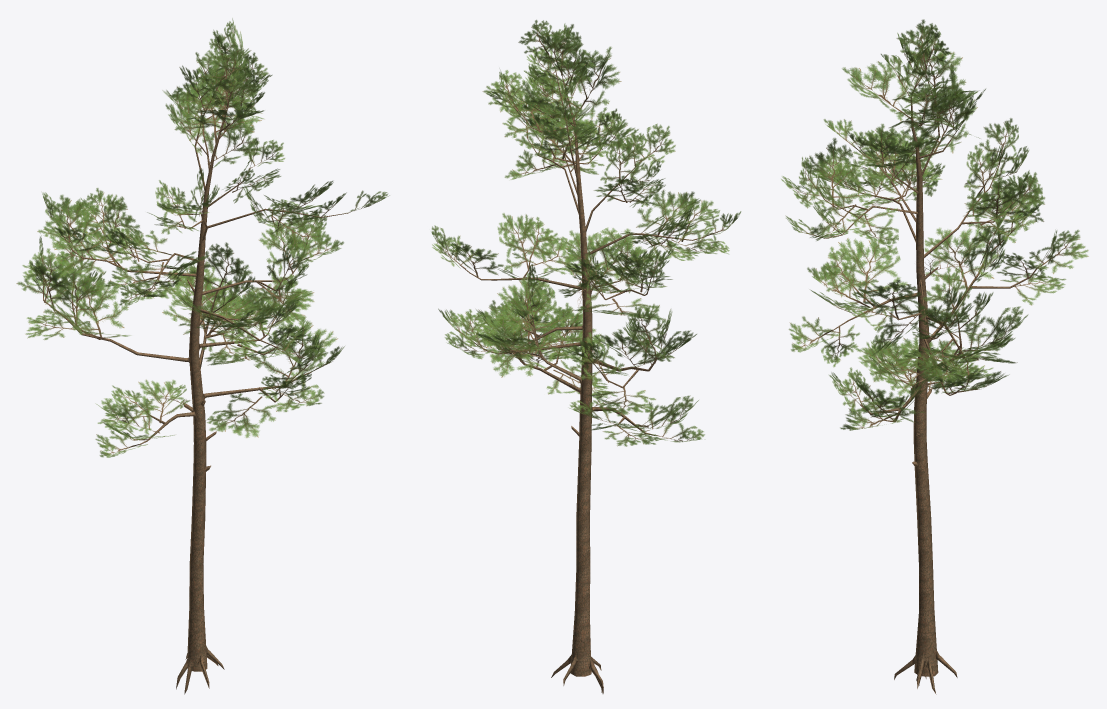
Rendered from tpine3.glb.
3 renders of one model, left to right at view 1: azimuth 30°, elevation 25°; view 2: azimuth 150°, elevation 25°; view 3: azimuth 270°, elevation 25°, orthographic. The views are drawn at different scales.
Parts seen in each view (by area): view 1: prefab; view 2: prefab; view 3: prefab.
Part boxes in pixels (x1,y1,x2,y2): prefab: [16, 18, 389, 694]; prefab: [431, 20, 741, 693]; prefab: [781, 19, 1088, 694].
Size of the model in its own units: 6.26 by 14.12 by 5.88.
Materials: 2 (2 with a texture image).
